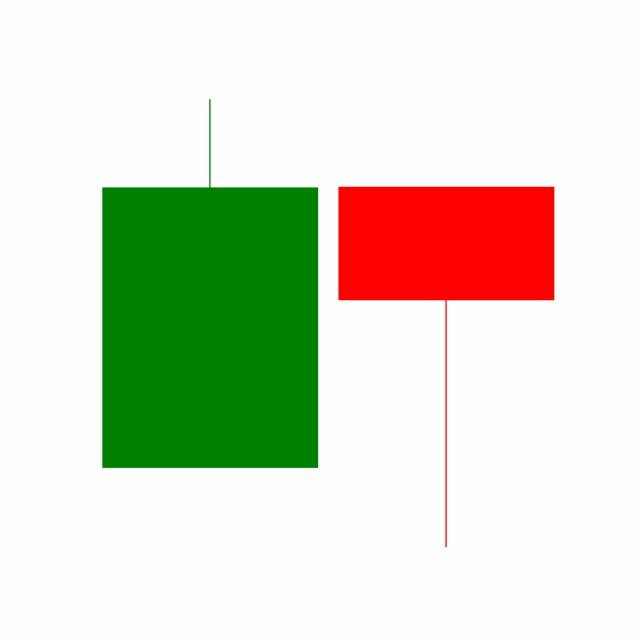Hammer: (327, 183, 565, 552)
